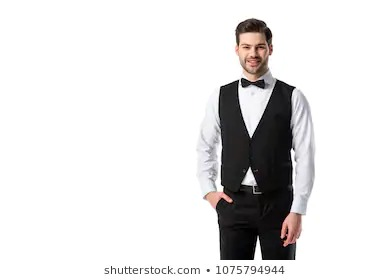F_belt: (221, 180, 299, 197)
F_dress pants: (215, 188, 300, 261)
F_shirt: (191, 72, 325, 214)
